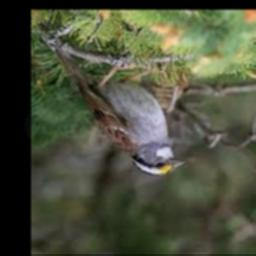Sparrow: (54, 44, 185, 176)
